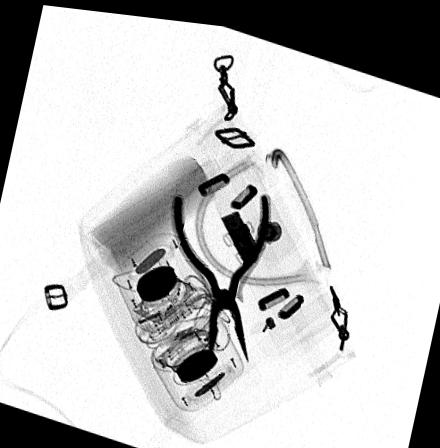Pliers: (170, 184, 269, 363)
